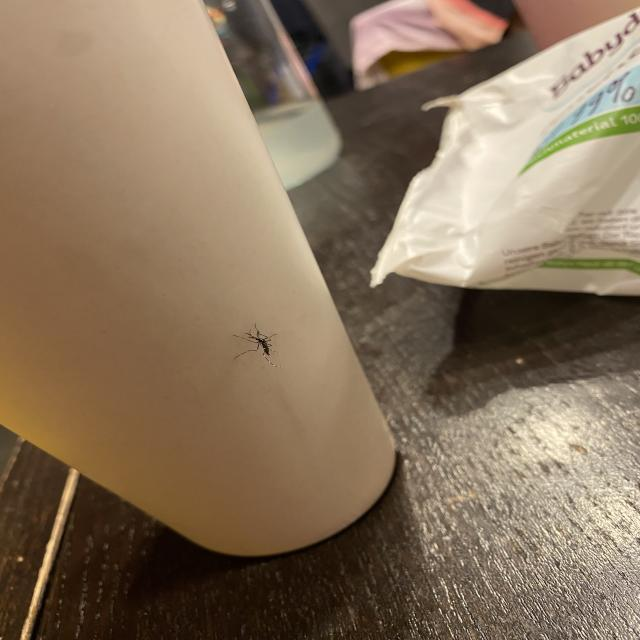albopictus: (230, 321, 292, 367)
